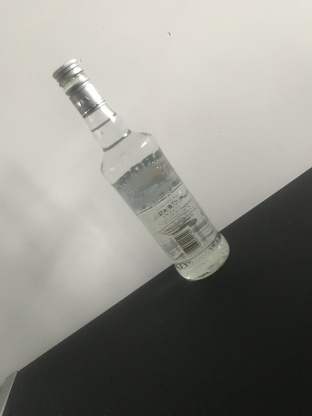nakretka: (50, 55, 107, 119)
